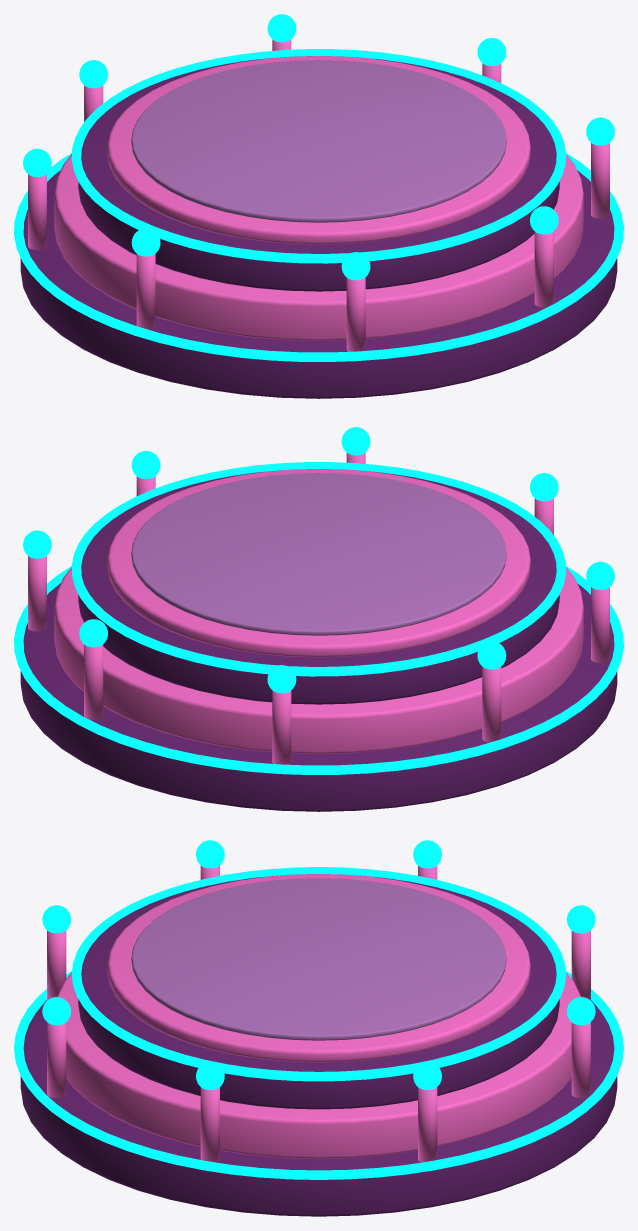
Rendered from podium-premier-great.glb.
3 renders of one model, top to bottom at view 1: azimuth 30°, elevation 25°; view 2: azimuth 150°, elevation 25°; view 3: azimuth 270°, elevation 25°, orthographic.
Parts seen in each view (by area): view 1: deck, base, tier, tier2, top, Torus.001, Torus, Cylinder.006, Cylinder.004, Cylinder.005, Cylinder.007, Cylinder.003 (+8 smaller); view 2: deck, base, tier, tier2, top, Torus.001, Torus, Cylinder.001, Cylinder.003, Cylinder.002, Cylinder, Cylinder.004 (+8 smaller); view 3: deck, base, tier, tier2, top, Torus.001, Torus, Cylinder.001, Cylinder.006, Cylinder, Cylinder.007, Cylinder.002 (+9 smaller).
Boxes of the visible parts, box(x1,y1,x2,y2) form: deck: box(131, 60, 506, 222); base: box(20, 170, 617, 398); tier: box(54, 154, 583, 340); tier2: box(78, 57, 559, 291); top: box(107, 56, 530, 244); Torus.001: box(71, 49, 566, 263); Torus: box(14, 153, 623, 361); Cylinder.006: box(534, 231, 553, 307); Cylinder.004: box(136, 254, 155, 329); Cylinder.005: box(346, 277, 365, 351); Cylinder.007: box(591, 143, 609, 218); Cylinder.003: box(28, 174, 46, 249); deck: box(131, 473, 506, 635); base: box(20, 583, 617, 811); tier: box(54, 567, 583, 753); tier2: box(78, 470, 559, 704); top: box(107, 469, 530, 657); Torus.001: box(71, 462, 566, 676); Torus: box(14, 566, 623, 774); Cylinder.001: box(84, 644, 103, 720); Cylinder.003: box(482, 667, 501, 742); Cylinder.002: box(272, 690, 291, 764); Cylinder: box(28, 556, 46, 631); Cylinder.004: box(591, 587, 609, 662); deck: box(131, 878, 506, 1040); base: box(20, 1000, 617, 1216); tier: box(57, 972, 580, 1158); tier2: box(78, 875, 559, 1109); top: box(107, 874, 530, 1062); Torus.001: box(71, 867, 566, 1081); Torus: box(14, 971, 623, 1179); Cylinder.001: box(571, 1022, 590, 1098); Cylinder.006: box(47, 1022, 66, 1098); Cylinder: box(418, 1087, 437, 1162); Cylinder.007: box(200, 1087, 219, 1162); Cylinder.002: box(571, 930, 590, 1000).
Size of the model in its own units: 6.34 by 1.6 by 6.34.
